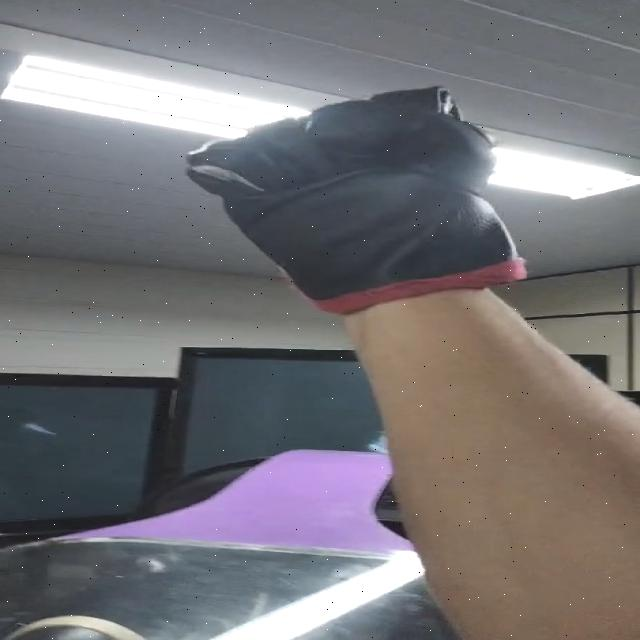Gloves: (177, 82, 524, 306)
